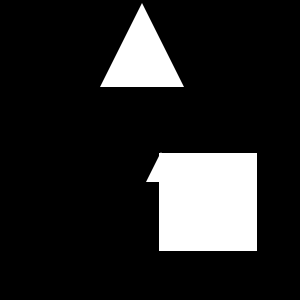circle: (159, 153, 257, 251)
triangle: (100, 3, 184, 87), (146, 152, 176, 182)
